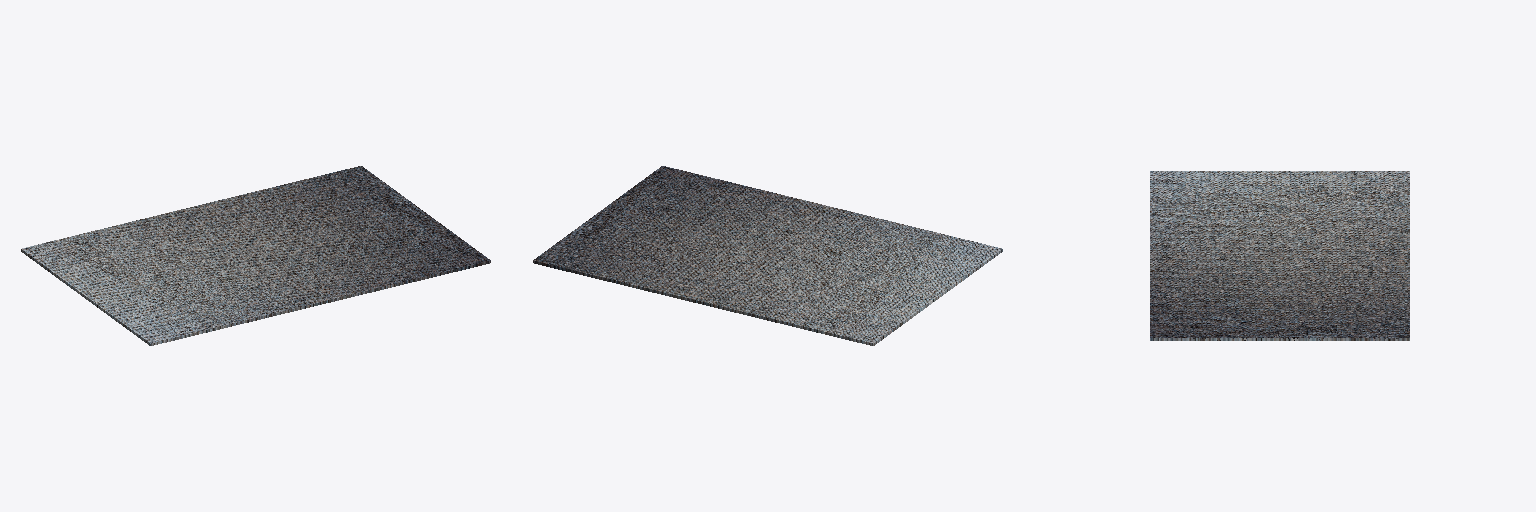
3 renders of one model, left to right at view 1: azimuth 30°, elevation 25°; view 2: azimuth 150°, elevation 25°; view 3: azimuth 270°, elevation 25°, orthographic.
Size of the model in its own units: 7.07 by 0.0565 by 4.66.
Materials: 1 (1 with a texture image).